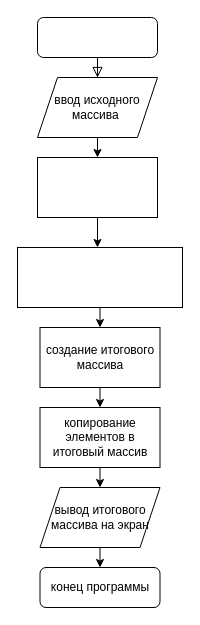
Some shapes in this 200 by 625 pixel diagram are drawn without their labels. The centre of each missing label's shape, as x and y in pixels:
начало программы: pixel 97 37
Перебор элементов в исходном массиве и формирование нового массива: pixel 99 277
создание нового массива: pixel 97 187
